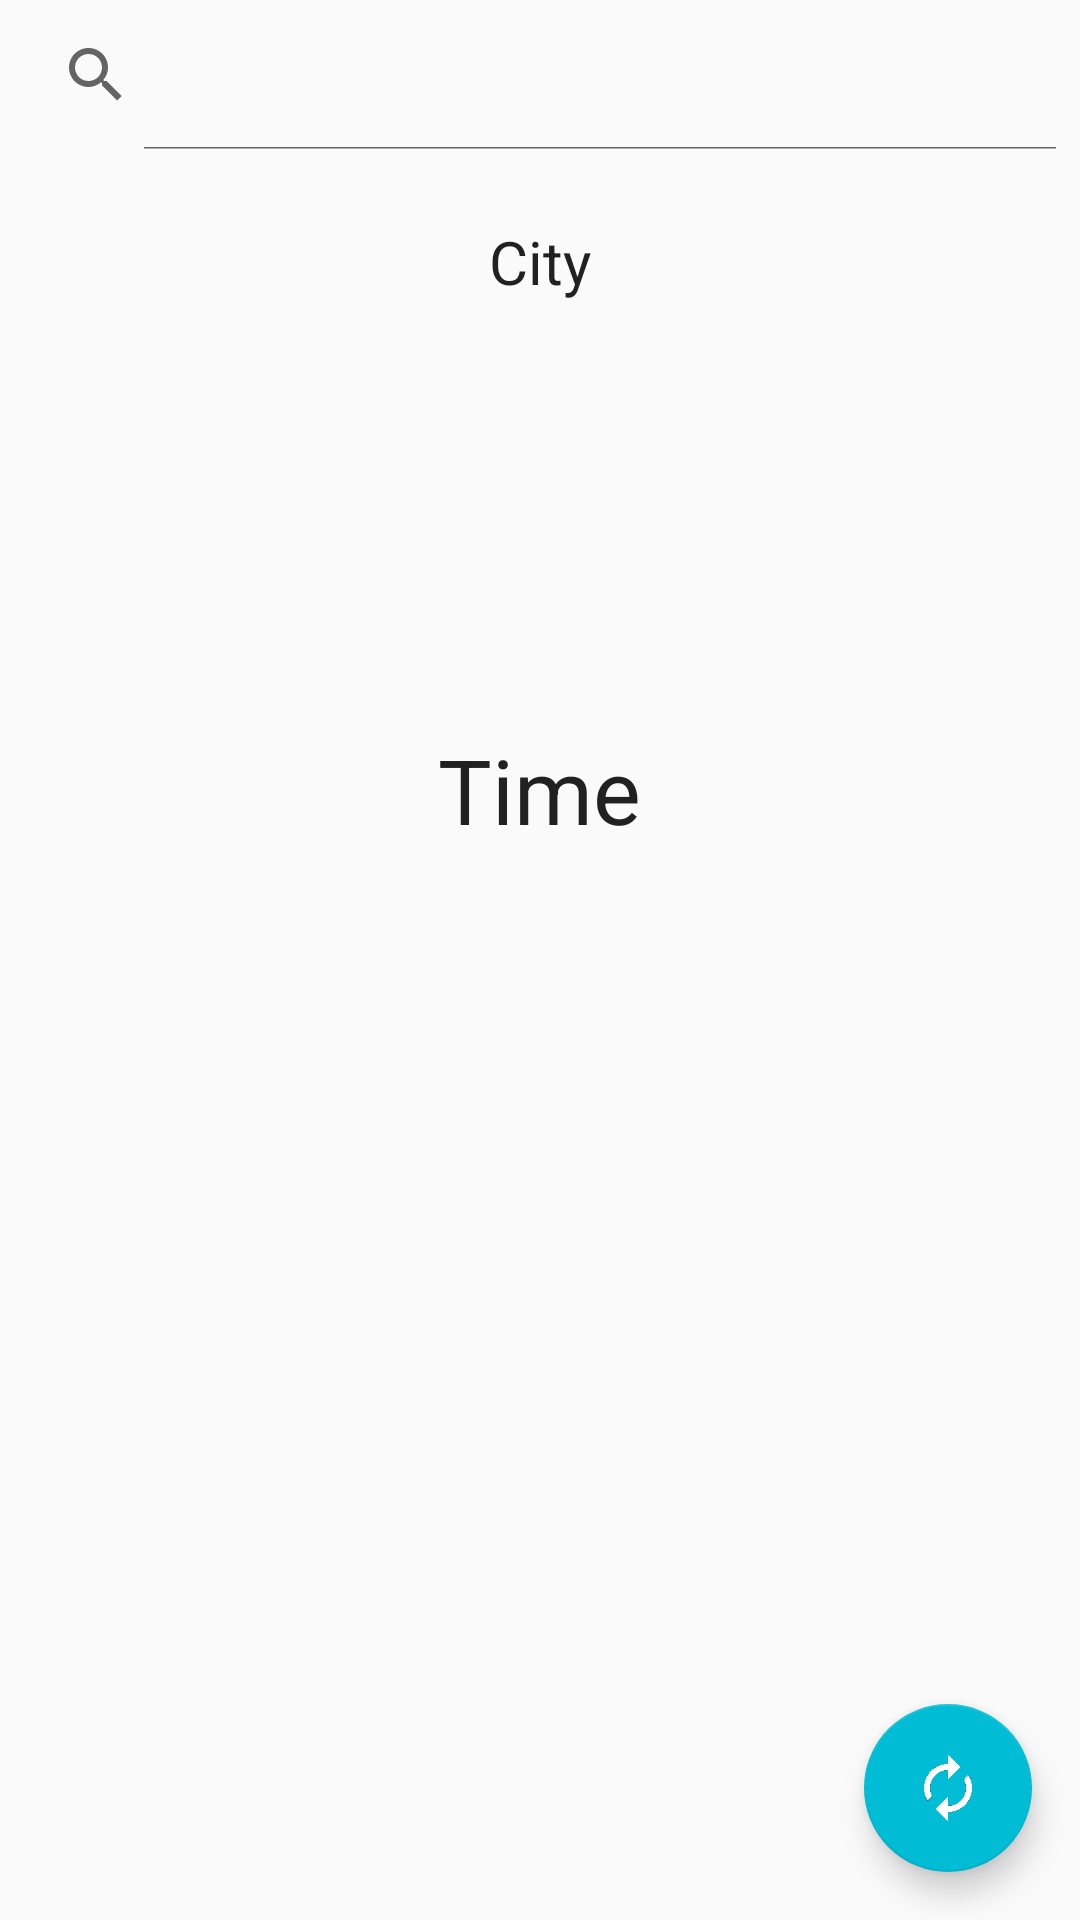

Locate icon controls on the screen. Image size 1080px×1920px, boxes as (x1, y1, x2, y2).
autorenew: (864, 1704, 1032, 1872)
